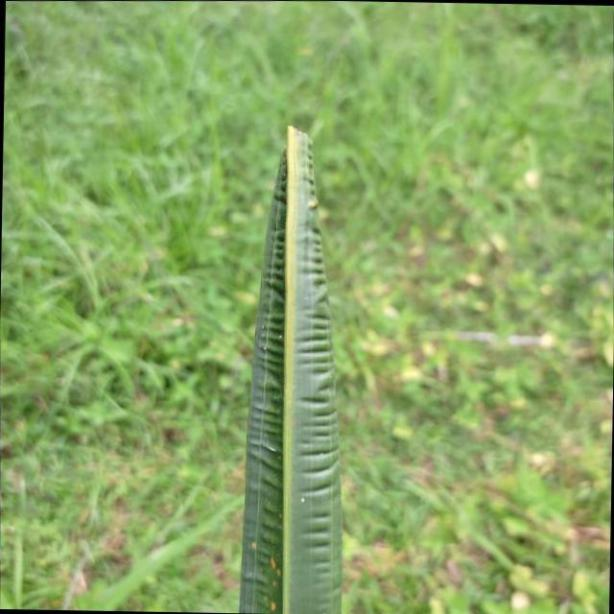Boron: (243, 113, 343, 614)
